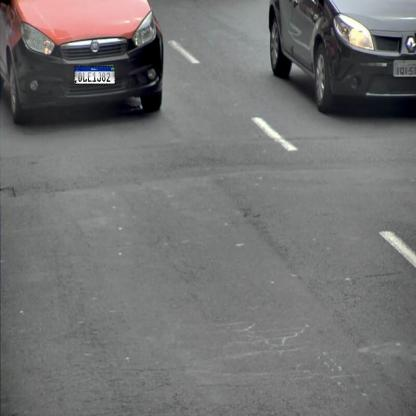PlacaM: (74, 66, 115, 84)
